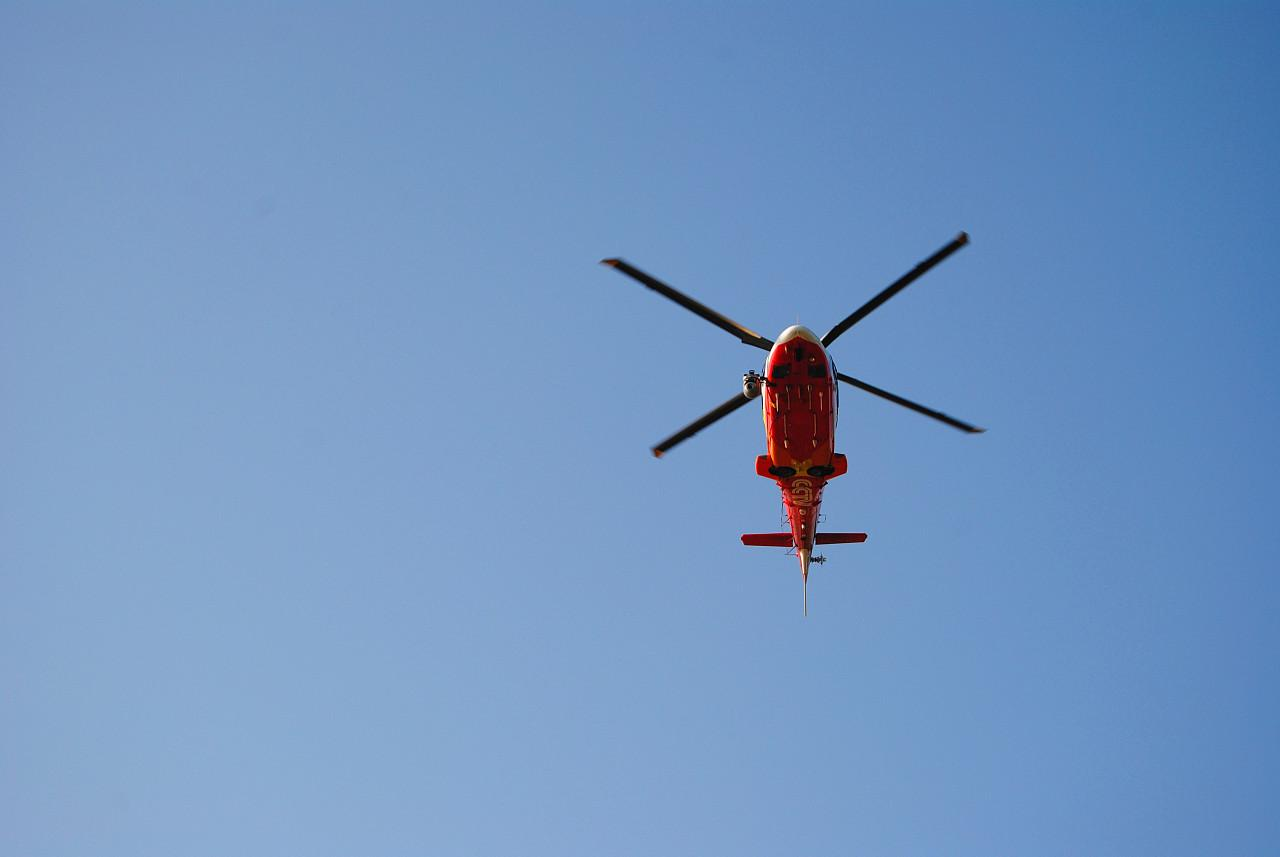airplane: (596, 237, 984, 609)
